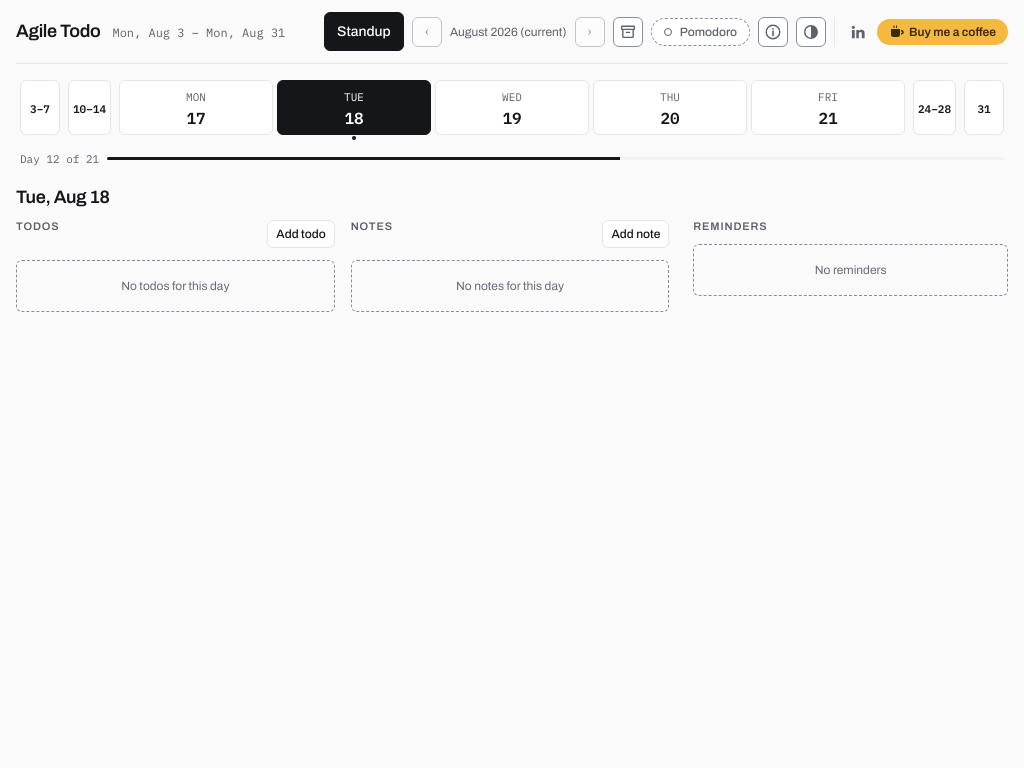
Test case: command palette › opens with Cmd/Ctrl+K from anywhere, including a text field
The width and height of the screenshot is (1024, 768).
Click the button "Add todo" at (301, 234), box [267, 220, 335, 248]
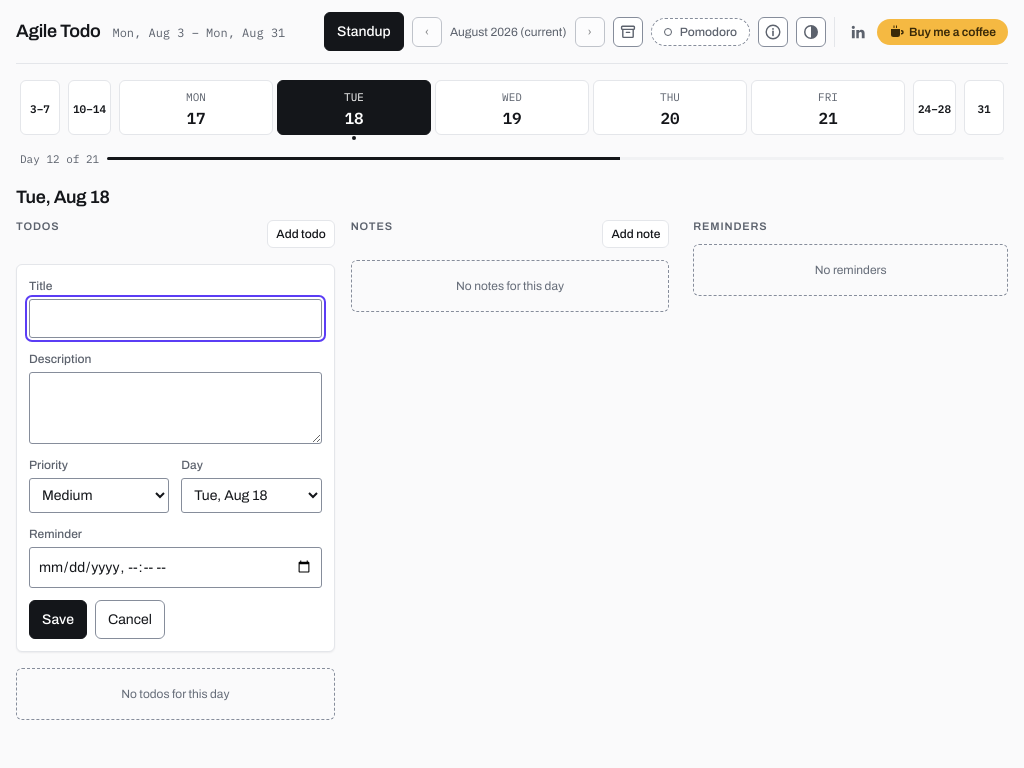
Type "draft" into the field labelled "Title" at (175, 318), box [29, 299, 322, 338]
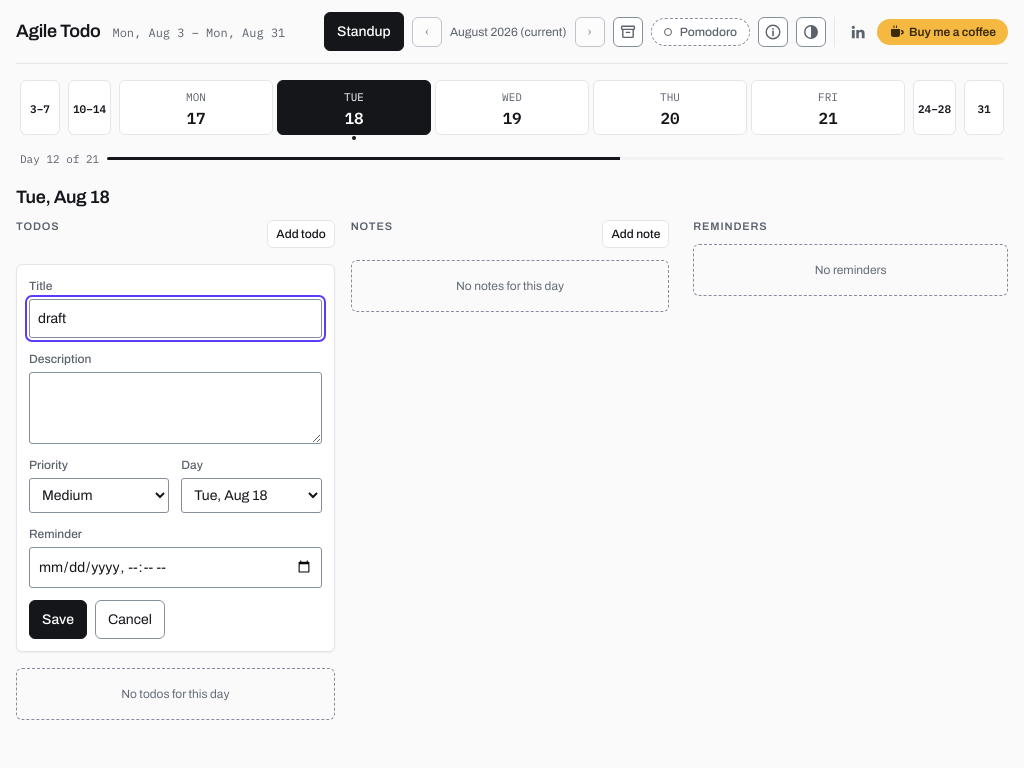
Type keys "{Control>}k{/Control}"
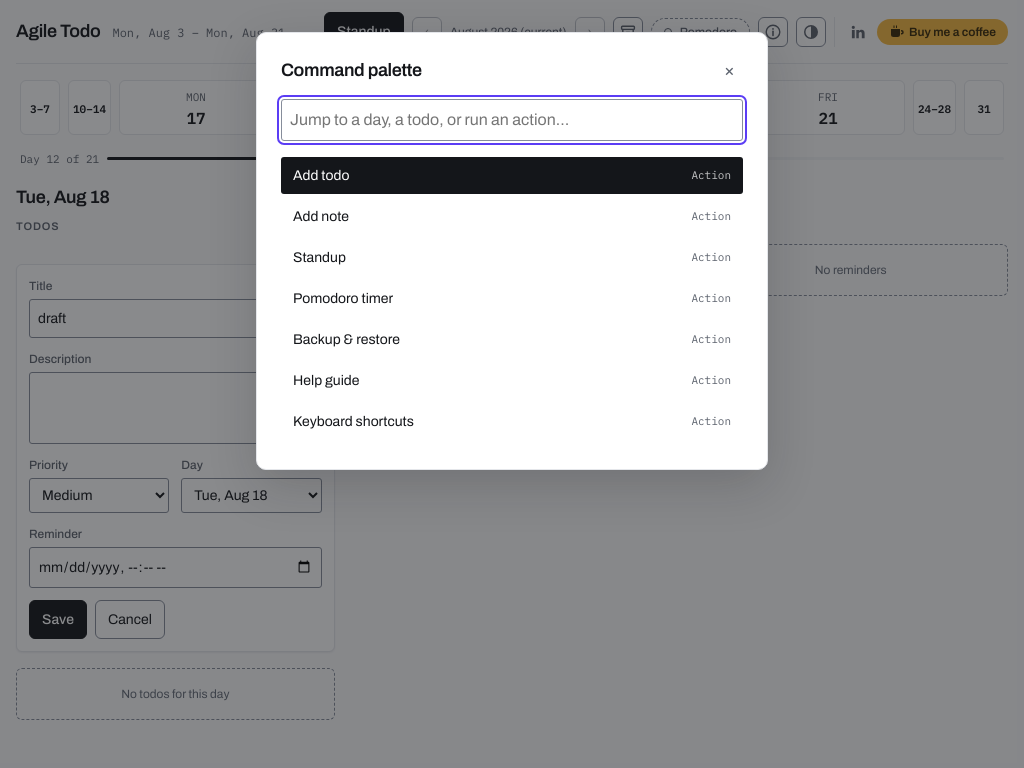
Result: the dialog "Command palette" is shown at [256, 32, 768, 470]
